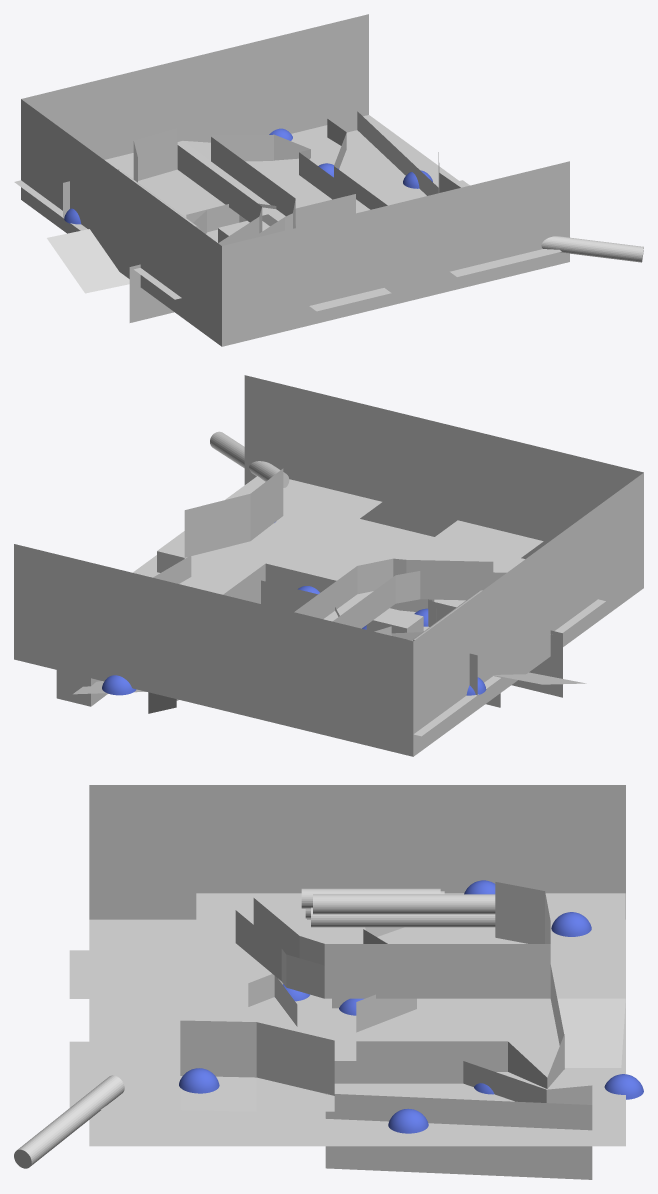
File: mapa01.fbx
3 renders of one model, top to bottom at view 1: azimuth 30°, elevation 25°; view 2: azimuth 150°, elevation 25°; view 3: azimuth 270°, elevation 25°, orthographic. The views are drawn at different scales.
Visible parts, largest first — view 1: Plane, Plane.004, Plane.011, Plane.012, Plane.005, Cylinder, Plane.007, Plane.001, Plane.009, Plane.002; view 2: Plane, Plane.004, Plane.001, Plane.012, Plane.002, Plane.011, Plane.007, Cylinder, Cube, Plane.005; view 3: Plane, Plane.004, Plane.012, Plane.001, Plane.011, Plane.002, Cylinder.005, Plane.003, Cylinder, Cylinder.001, Cylinder.004, Sphere.005 (+4 smaller).
Part boxes in pixels (box(x1,y1,x2,y2)): Plane: box(21, 14, 569, 346); Plane.004: box(14, 127, 295, 245); Plane.011: box(239, 134, 355, 228); Plane.012: box(327, 111, 438, 209); Plane.005: box(47, 229, 129, 293); Cylinder: box(541, 236, 643, 262); Plane.007: box(129, 264, 174, 322); Plane.001: box(438, 152, 561, 276); Plane.009: box(186, 204, 239, 232); Plane.002: box(309, 288, 391, 311); Plane: box(14, 375, 643, 756); Plane.004: box(73, 558, 506, 736); Plane.001: box(157, 468, 381, 572); Plane.012: box(56, 556, 434, 706); Plane.002: box(419, 520, 543, 569); Plane.011: box(148, 580, 339, 713); Plane.007: box(428, 600, 562, 697); Cylinder: box(210, 431, 289, 487); Cube: box(366, 608, 423, 633); Plane.005: box(493, 672, 586, 684); Plane: box(89, 785, 625, 1146); Plane.004: box(235, 882, 625, 1069); Plane.012: box(274, 976, 592, 1179); Plane.001: box(69, 1020, 334, 1111); Plane.011: box(356, 994, 564, 1088); Plane.002: box(69, 950, 180, 998); Cylinder.005: box(313, 894, 495, 914); Plane.003: box(196, 893, 306, 937); Cylinder: box(14, 1075, 124, 1168); Cylinder.001: box(311, 907, 495, 927); Cylinder.004: box(301, 888, 440, 908); Sphere.005: box(179, 1068, 219, 1093).
Size of the model in its own units: 1654 by 529 by 1524.
